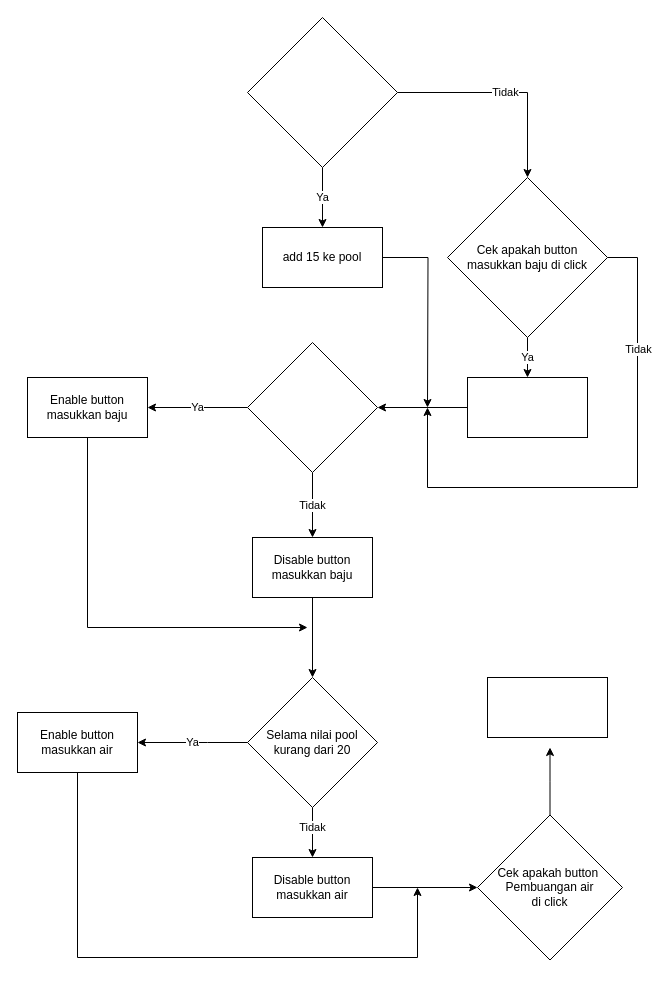
The diagram is 669 pixels wide and 983 high, and some of its shapes have lost their labels. Each missing label, with the centre of its shape:
Add 1 ke pool: pixel 527 407
Cek apakah button masukkan air di click: pixel 322 92
Drain 15 dari pool: pixel 547 707
Selama nilai pool kurang dari 5: pixel 312 407
